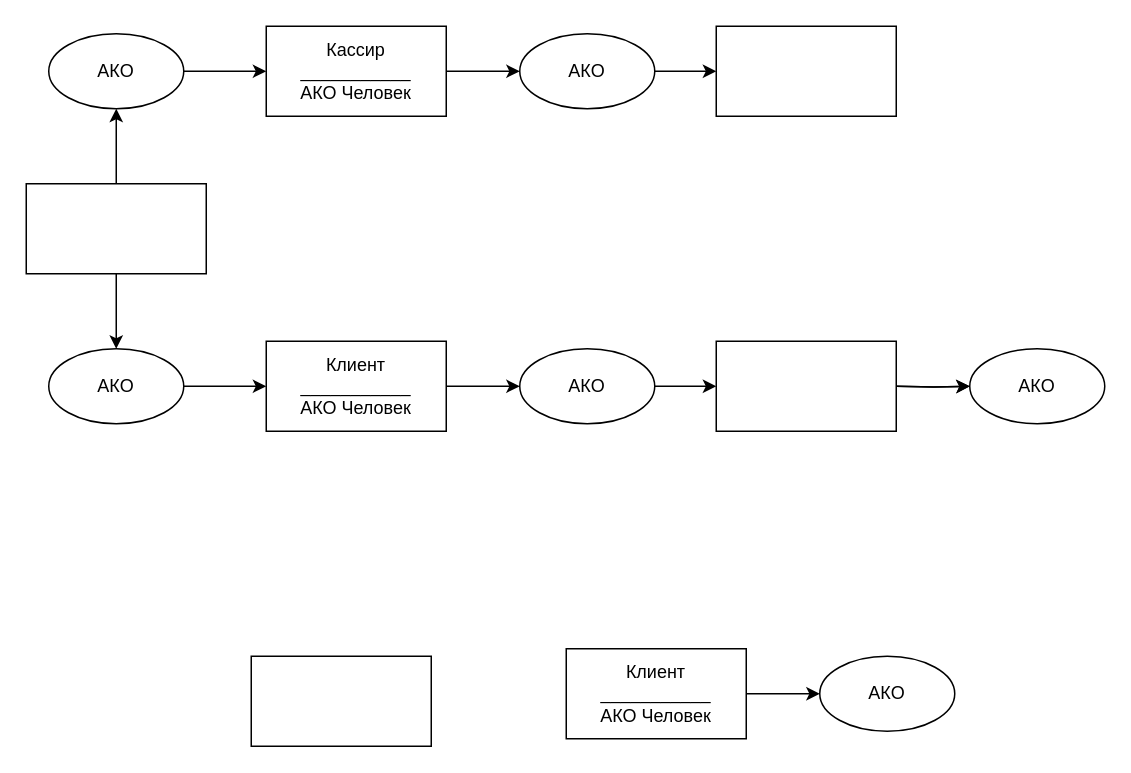
Image size: 1131x773. Some labels were removed from this diagram. Each missing label, with the centre of its shape:
Артём ___________ АКО Клиент: pixel 805 385
Билет ___________: pixel 340 700
Михаил ___________ АКО Кассир: pixel 805 70
Человек ___________: pixel 115 228
